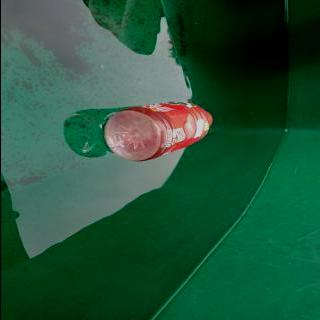bottle: (102, 101, 214, 162)
